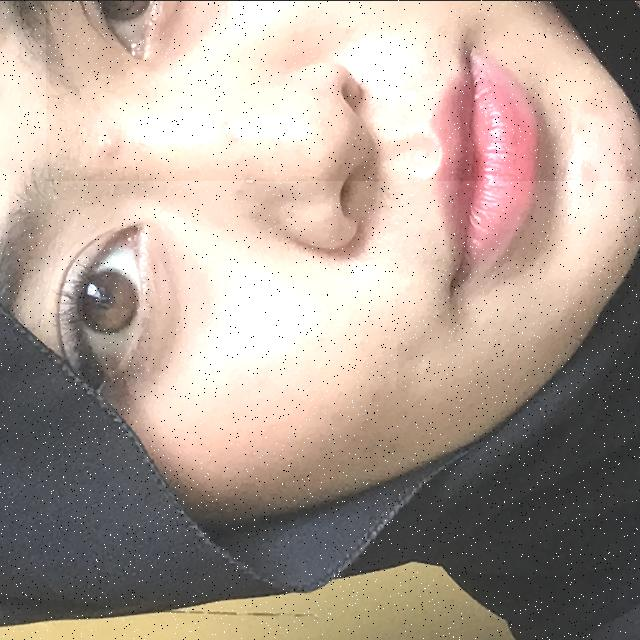telpon: (46, 0, 640, 180)
